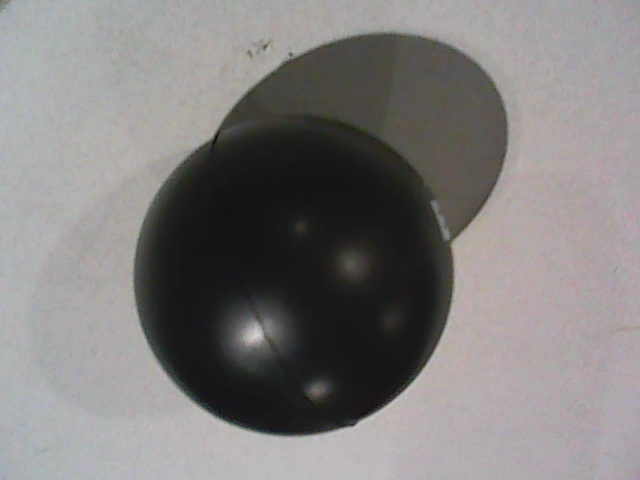ball: (133, 115, 454, 436)
